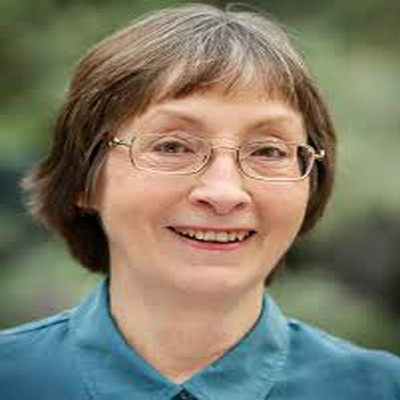eywear: (97, 92, 334, 192)
